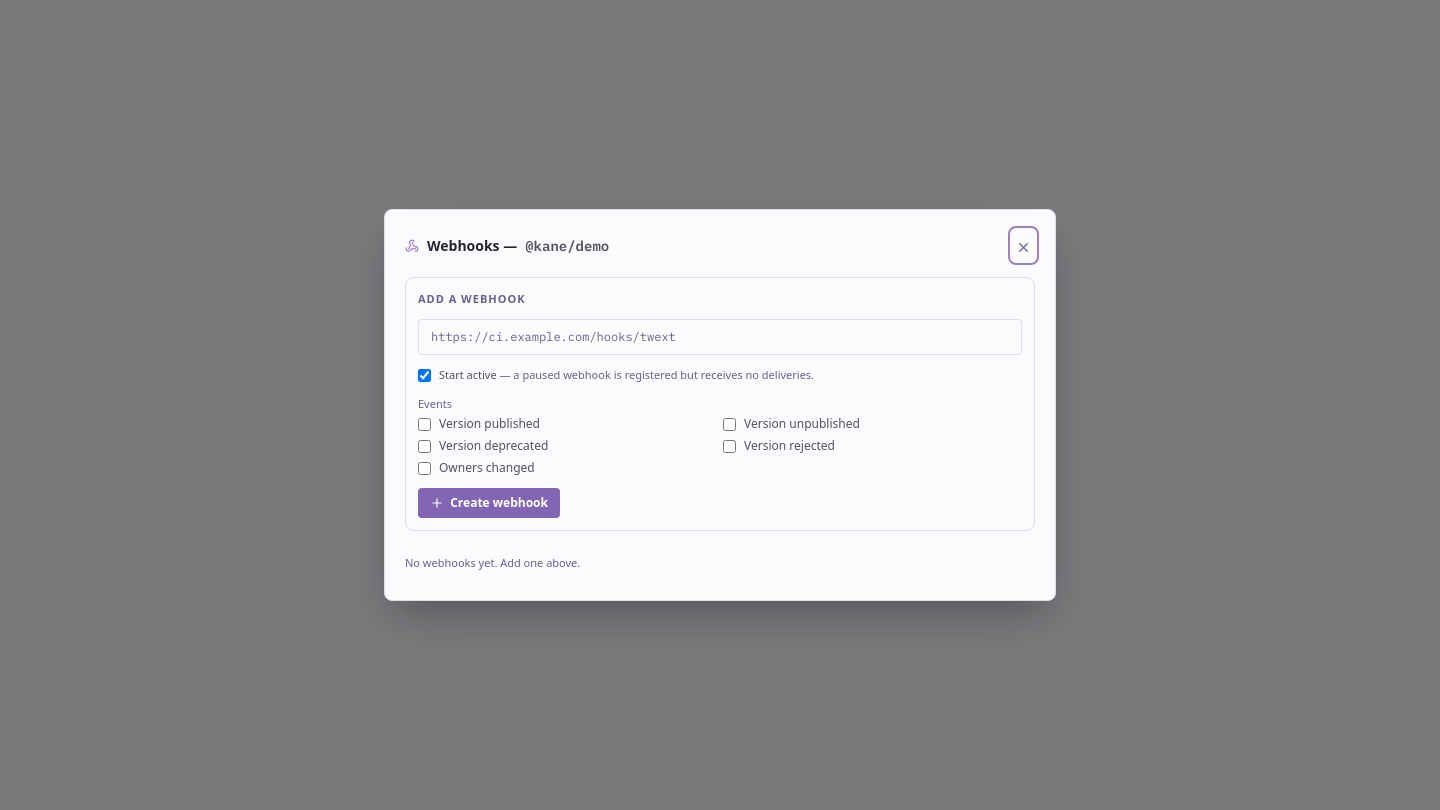
WebhookPanel › requires at least one event before creating
Expected: the text "No webhooks yet. Add one above." is shown, x1=405 y1=555 x2=580 y2=570
In the field named "Webhook URL": (720, 337) x1=418 y1=319 x2=1022 y2=355, type "https://ci.example.com/hook"
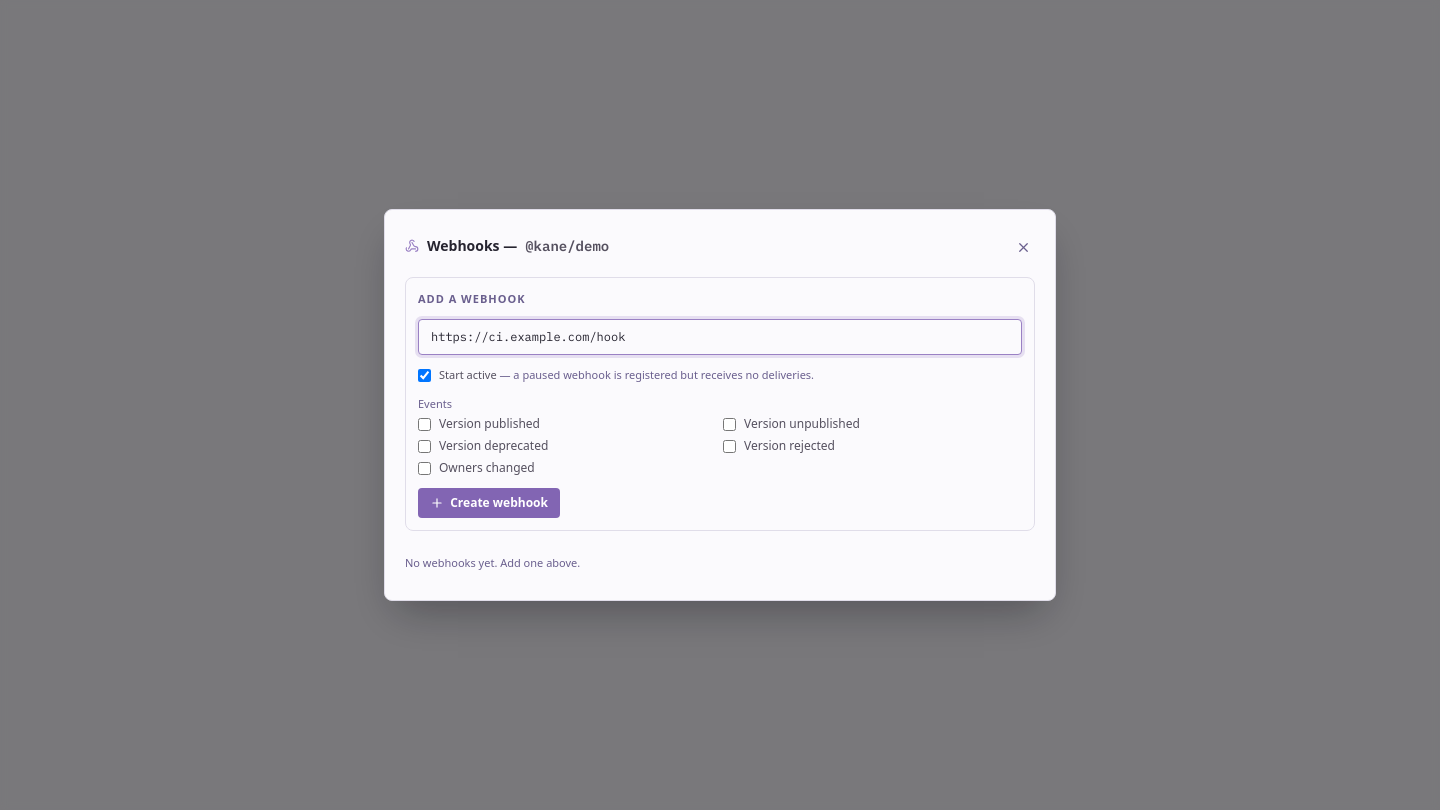
Click the button "Create webhook": click(489, 503) x1=418 y1=488 x2=560 y2=518
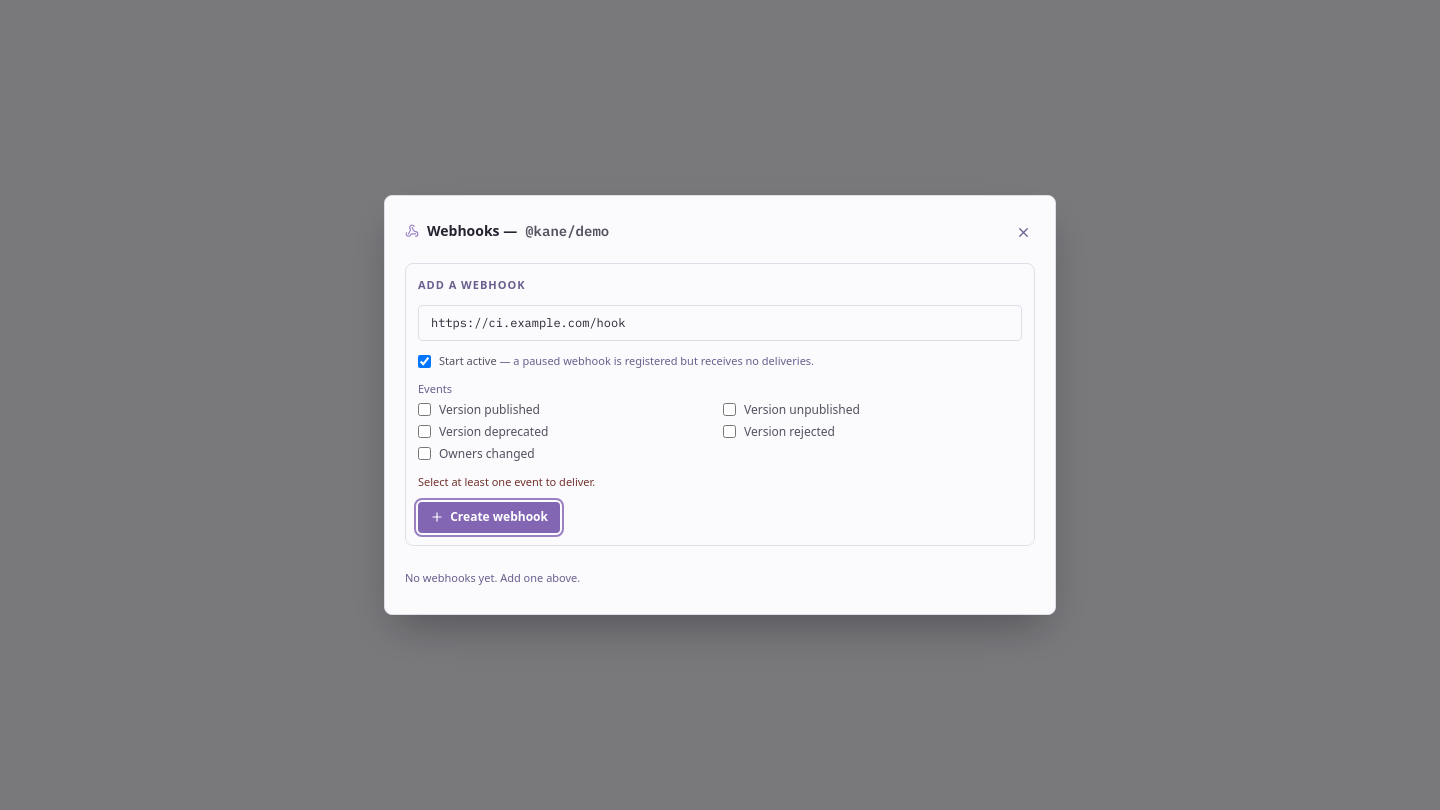
Result: the text "Select at least one event to deliver." is shown at x1=418 y1=474 x2=595 y2=489
